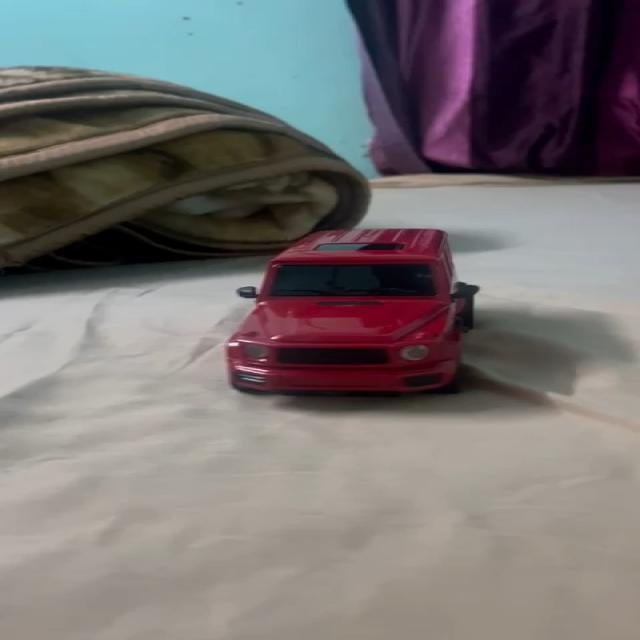light_vehicle: (214, 229, 466, 396)
